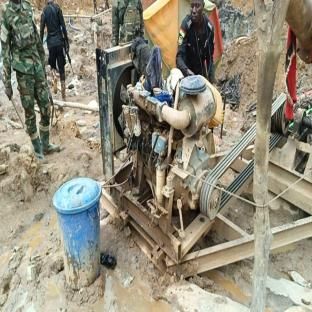ProcessingEquipment: (92, 43, 241, 259)
